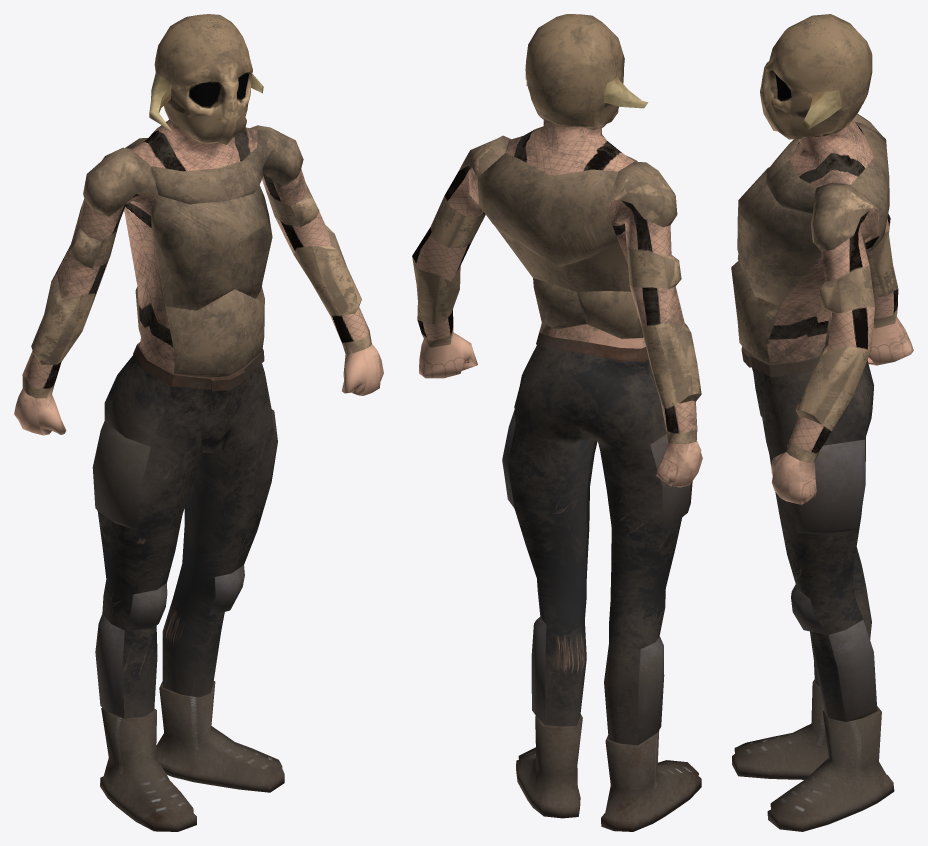
Rendered from Anim_interruptor_npc1.0036.obj.
The picture shows the model from 3 angles, left to right: view 1: azimuth 30°, elevation 25°; view 2: azimuth 150°, elevation 25°; view 3: azimuth 270°, elevation 25°; orthographic projection. The views are drawn at different scales.
Visible parts, largest first — view 1: NPC2; view 2: NPC2; view 3: NPC2.
Boxes of the visible parts, x1=… form: NPC2: x1=14, y1=14, x2=383, y2=831; NPC2: x1=412, y1=14, x2=702, y2=831; NPC2: x1=731, y1=14, x2=913, y2=831.
Size of the model in its own units: 4.18 by 9.64 by 2.04.
